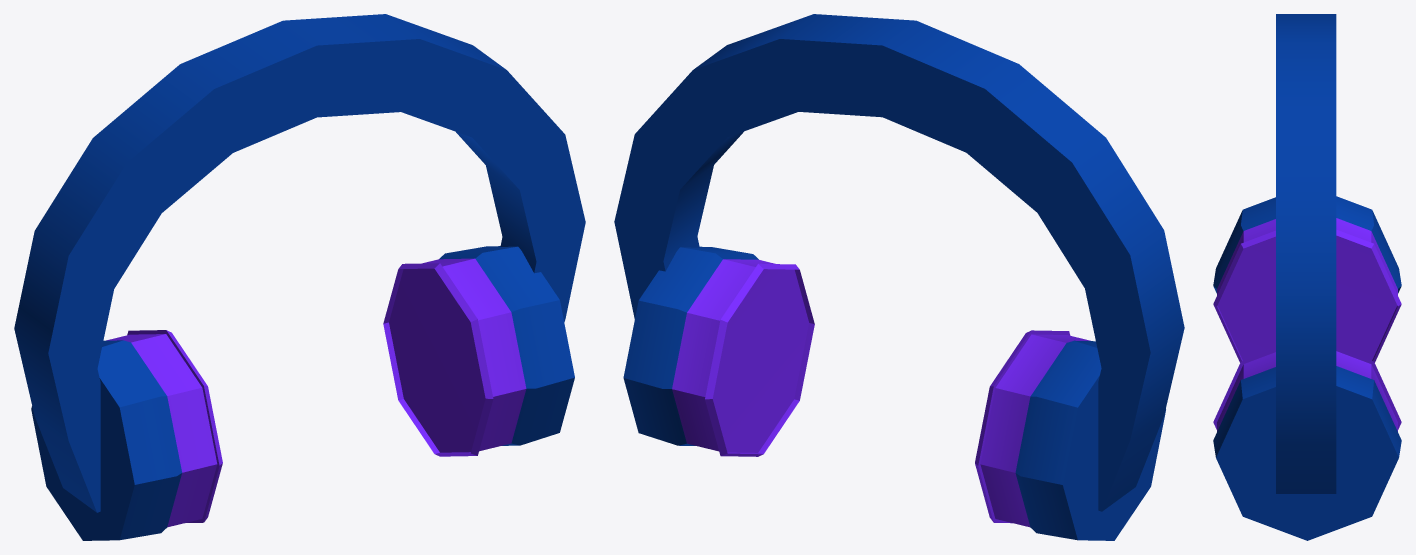
File: FoneDeOuvido.fbx
The picture shows the model from 3 angles, left to right: view 1: azimuth 30°, elevation 25°; view 2: azimuth 150°, elevation 25°; view 3: azimuth 270°, elevation 25°; orthographic projection. The views are drawn at different scales.
Parts seen in each view (by area): view 1: FoneDeOuvido; view 2: FoneDeOuvido; view 3: FoneDeOuvido.
Part boxes in pixels (box(x1,y1,x2,y2)): FoneDeOuvido: box(14, 14, 585, 540); FoneDeOuvido: box(614, 14, 1184, 540); FoneDeOuvido: box(1213, 14, 1401, 540).
Size of the model in its own units: 350 by 285 by 120.
